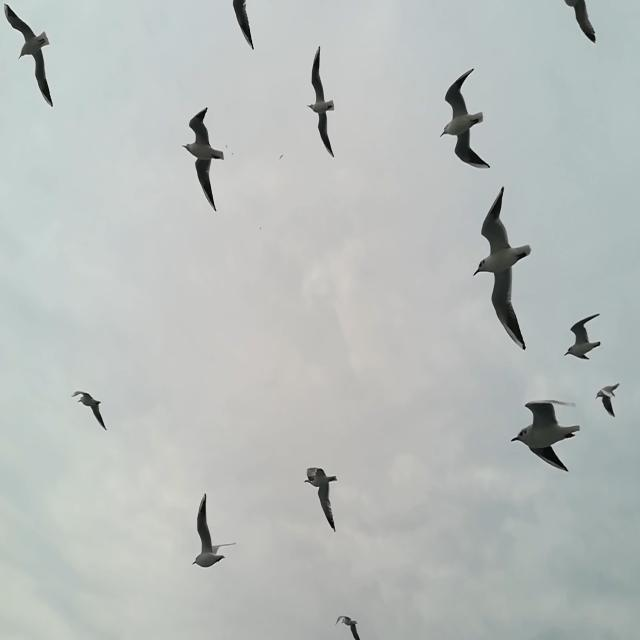bird: (472, 185, 533, 352), (509, 398, 582, 474), (439, 66, 490, 170), (5, 5, 55, 108), (181, 108, 224, 210), (193, 494, 237, 568), (308, 44, 336, 157), (304, 466, 338, 532), (564, 314, 602, 364), (564, 0, 598, 43), (71, 390, 107, 430), (232, 0, 254, 50), (595, 380, 622, 420), (335, 614, 363, 640), (278, 152, 284, 164)
